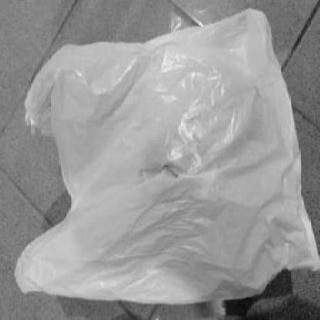objects: (17, 12, 302, 296)
